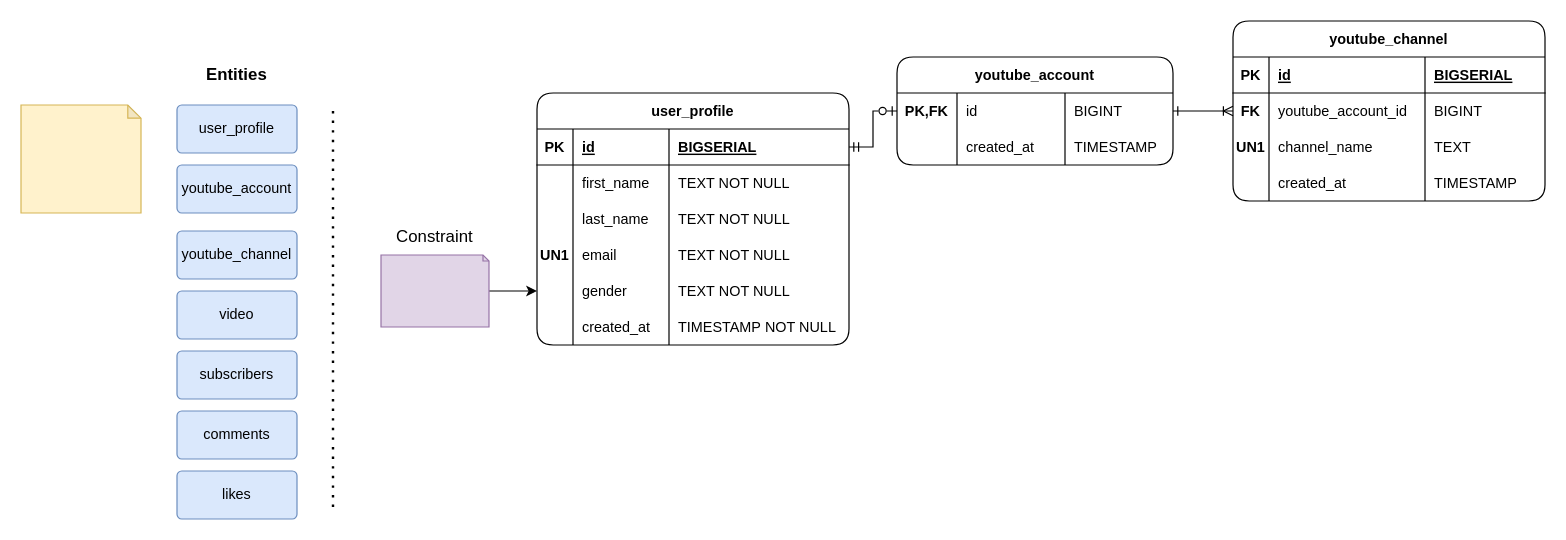
This 1566x540 diagram has some shape labels left out. The shapes that lost their labels are listed below. From the top down, each one's centre as x and y in pixels, then its label:
At (x=80, y=158): "Ask yourself, how an entity relates to another one.".
At (x=434, y=290): "MALE,FEMALE".
